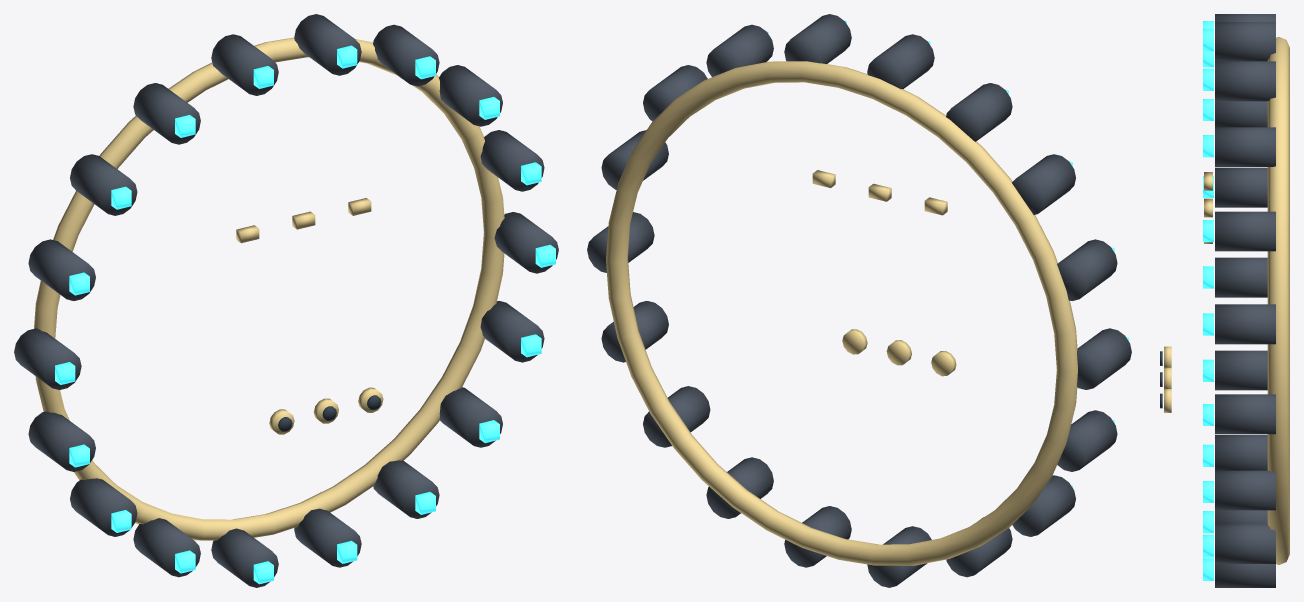
The model's file is 21_L93_CTBeamCollimator.glb.
3 renders of one model, left to right at view 1: azimuth 30°, elevation 25°; view 2: azimuth 150°, elevation 25°; view 3: azimuth 270°, elevation 25°, orthographic. The views are drawn at different scales.
Visible parts, largest first — view 1: L92_CTBeamCollimator_Part_0001, L92_CTBeamCollimator_Part_0000, L92_CTBeamCollimator_Part_0002, L92_CTBeamCollimator_Part_0003; view 2: L92_CTBeamCollimator_Part_0001, L92_CTBeamCollimator_Part_0000, L92_CTBeamCollimator_Part_0003; view 3: L92_CTBeamCollimator_Part_0001, L92_CTBeamCollimator_Part_0000, L92_CTBeamCollimator_Part_0002, L92_CTBeamCollimator_Part_0003, L92_CTBeamCollimator_Part_0008.
Part boxes in pixels (x1=…): L92_CTBeamCollimator_Part_0001: x1=14, y1=14, x2=558, y2=587; L92_CTBeamCollimator_Part_0000: x1=34, y1=37, x2=504, y2=540; L92_CTBeamCollimator_Part_0002: x1=55, y1=45, x2=555, y2=584; L92_CTBeamCollimator_Part_0003: x1=236, y1=198, x2=371, y2=243; L92_CTBeamCollimator_Part_0001: x1=587, y1=14, x2=1131, y2=587; L92_CTBeamCollimator_Part_0000: x1=606, y1=61, x2=1077, y2=565; L92_CTBeamCollimator_Part_0003: x1=812, y1=170, x2=947, y2=215; L92_CTBeamCollimator_Part_0001: x1=1215, y1=14, x2=1275, y2=587; L92_CTBeamCollimator_Part_0000: x1=1267, y1=37, x2=1289, y2=564; L92_CTBeamCollimator_Part_0002: x1=1203, y1=21, x2=1213, y2=580; L92_CTBeamCollimator_Part_0003: x1=1204, y1=172, x2=1212, y2=243; L92_CTBeamCollimator_Part_0008: x1=1164, y1=389, x2=1171, y2=412.
Bounding box in the file's own units: 3.12 × 3.07 × 0.702.
